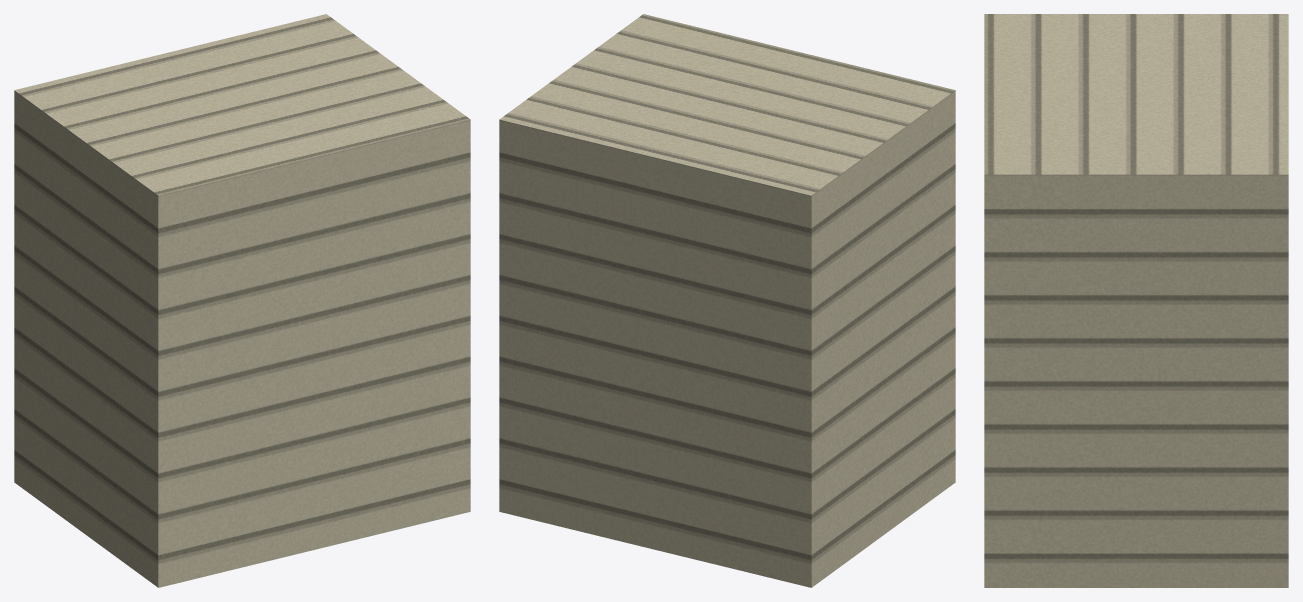
File: grain_feed_bin_display.glb
The picture shows the model from 3 angles, left to right: view 1: azimuth 30°, elevation 25°; view 2: azimuth 150°, elevation 25°; view 3: azimuth 270°, elevation 25°; orthographic projection. The views are drawn at different scales.
Visible parts, largest first — view 1: grain_feed_bin_display-col; view 2: grain_feed_bin_display-col; view 3: grain_feed_bin_display-col.
Boxes of the visible parts, x1,y1,x2,y2 form: grain_feed_bin_display-col: (14, 14, 470, 587); grain_feed_bin_display-col: (499, 14, 955, 587); grain_feed_bin_display-col: (984, 14, 1288, 587).
Size of the model in its own units: 1 by 1.2 by 0.8.
Materials: 1 (1 with a texture image).
